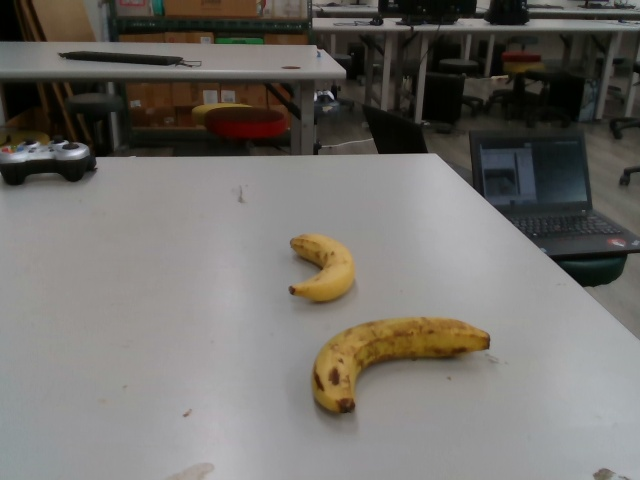banana: (310, 316, 492, 417), (286, 231, 355, 305)
